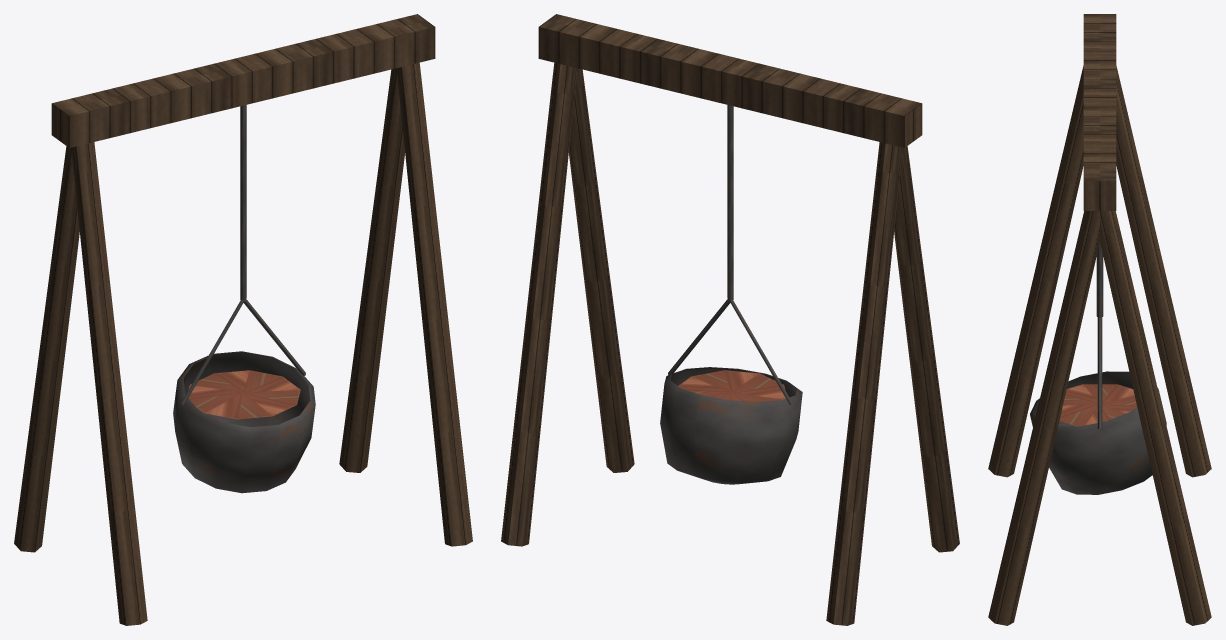
Rendered from Crucible_Hanging_1.gltf.
The picture shows the model from 3 angles, left to right: view 1: azimuth 30°, elevation 25°; view 2: azimuth 150°, elevation 25°; view 3: azimuth 270°, elevation 25°; orthographic projection. The views are drawn at different scales.
Parts seen in each view (by area): view 1: Crucible_Hanging_1; view 2: Crucible_Hanging_1; view 3: Crucible_Hanging_1.
Part boxes in pixels (box(x1,y1,x2,y2)): Crucible_Hanging_1: box(14, 14, 472, 625); Crucible_Hanging_1: box(501, 14, 959, 625); Crucible_Hanging_1: box(988, 14, 1211, 625).
Size of the model in its own units: 3.6 by 4.52 by 2.03.
3 materials, 3 textured.
